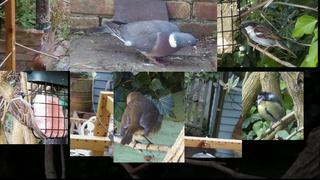blue tit: (256, 92, 285, 132)
robin: (119, 92, 164, 151)
sparrow: (237, 20, 298, 58), (9, 91, 48, 141)
wood pigeon: (90, 20, 197, 67)
